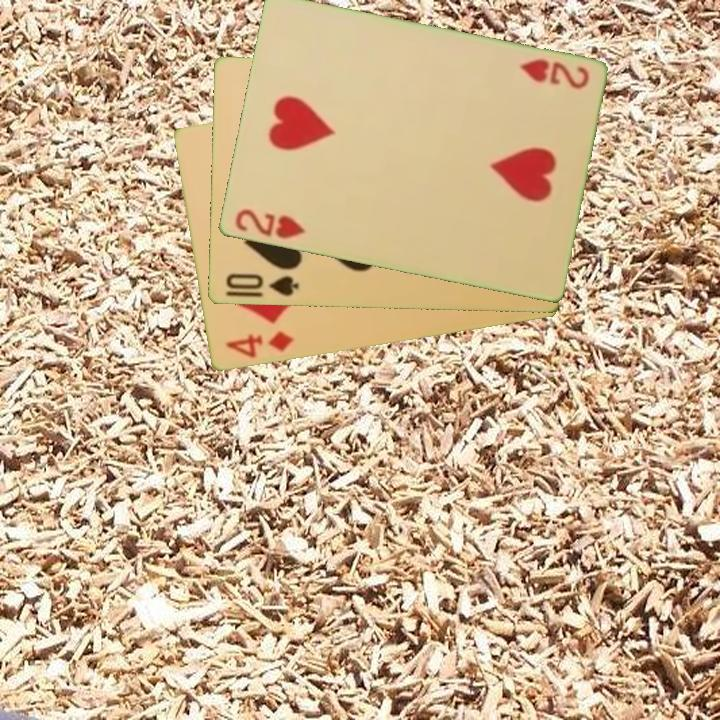10s: (222, 270, 301, 300)
2h: (231, 206, 308, 243), (516, 56, 592, 93)
4d: (221, 328, 297, 362)
